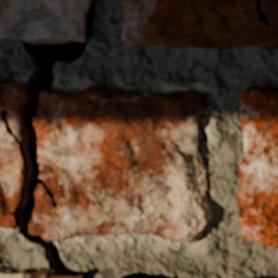brick: (124, 0, 277, 49), (238, 90, 277, 246), (0, 0, 92, 40), (0, 268, 83, 277)
broken_brick: (31, 85, 212, 244), (0, 119, 22, 230), (0, 83, 29, 139)
crack: (0, 2, 96, 275)
